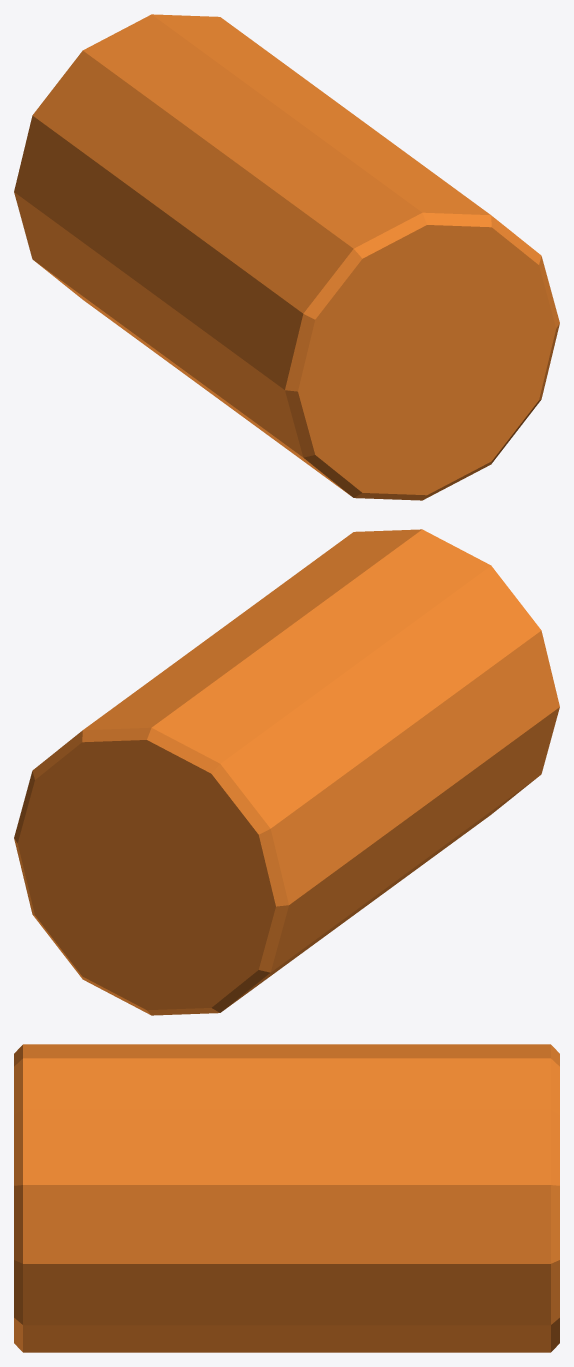
File: roll_cylinder.glb
3 renders of one model, top to bottom at view 1: azimuth 30°, elevation 25°; view 2: azimuth 150°, elevation 25°; view 3: azimuth 270°, elevation 25°, orthographic. The views are drawn at different scales.
Visible parts, largest first — view 1: roll_cylinder; view 2: roll_cylinder; view 3: roll_cylinder.
Boxes of the visible parts, x1=… form: roll_cylinder: x1=14, y1=14, x2=559, y2=500; roll_cylinder: x1=14, y1=529, x2=559, y2=1015; roll_cylinder: x1=14, y1=1044, x2=559, y2=1352.
Bounding box in the file's own units: 0.17 × 0.17 × 0.3.
